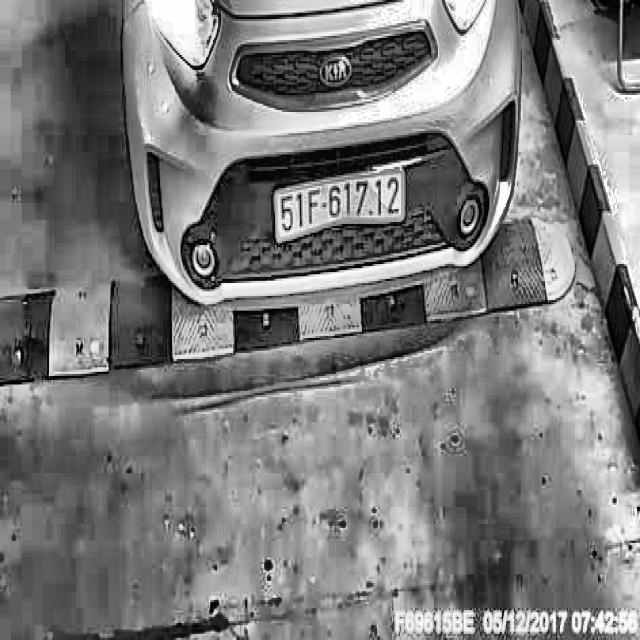plate: (272, 162, 409, 247)
